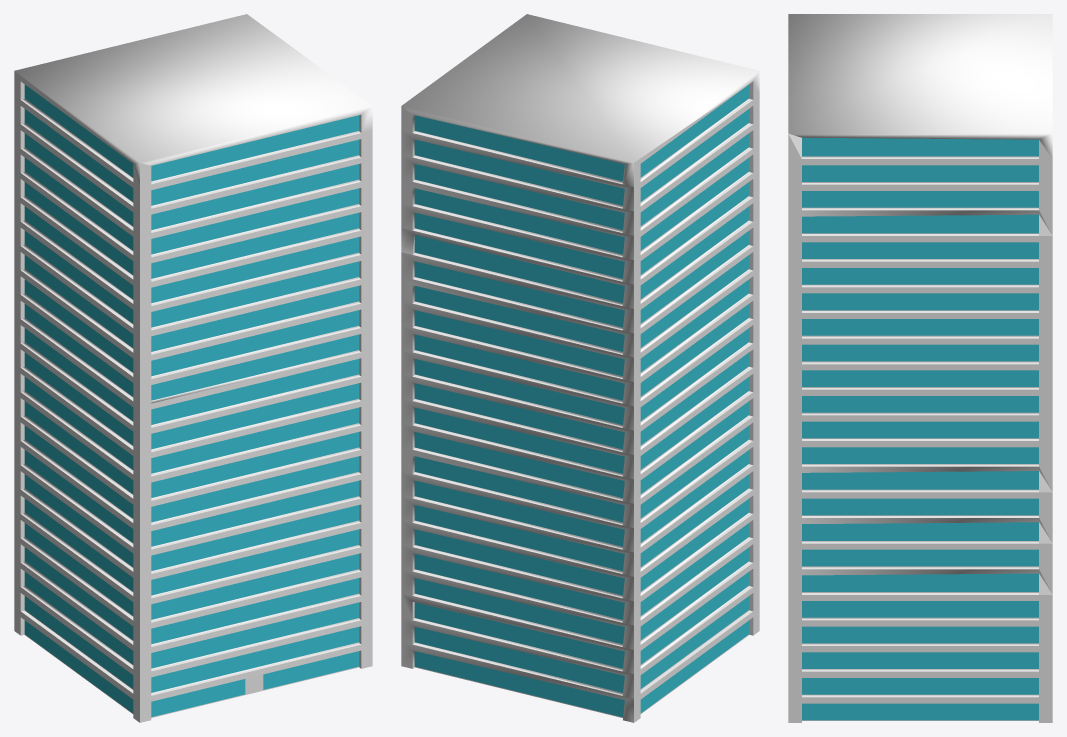
File: Skyscraper 6.fbx
3 renders of one model, left to right at view 1: azimuth 30°, elevation 25°; view 2: azimuth 150°, elevation 25°; view 3: azimuth 270°, elevation 25°, orthographic. The views are drawn at different scales.
Parts seen in each view (by area): view 1: Group_001; view 2: Group_001; view 3: Group_001.
Boxes of the visible parts, x1,y1,x2,y2 form: Group_001: [14, 14, 372, 722]; Group_001: [401, 14, 759, 722]; Group_001: [788, 14, 1052, 722].
Bounding box in the file's own units: 3100 × 7130 × 2900.
